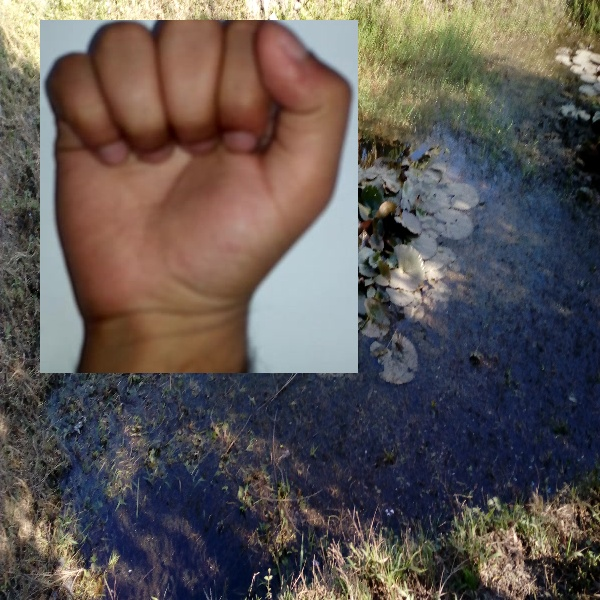A: (40, 20, 358, 373)
